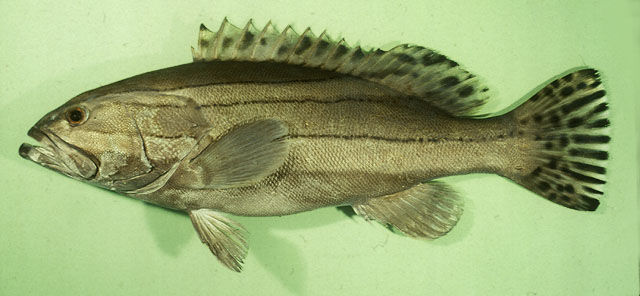fish: (19, 15, 613, 274)
